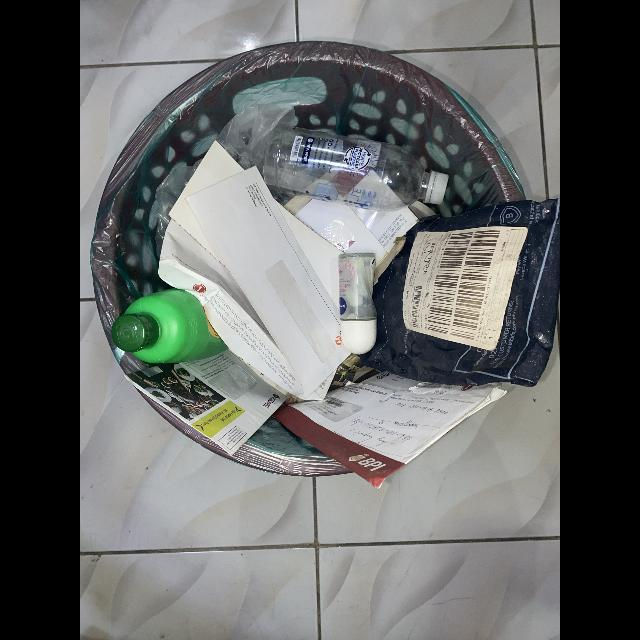glass: (338, 253, 377, 355)
paper: (185, 165, 351, 399), (158, 218, 338, 400), (273, 372, 508, 489), (127, 350, 287, 456), (295, 199, 387, 265)
plastic: (358, 198, 560, 388), (262, 127, 448, 212), (111, 288, 229, 364)
